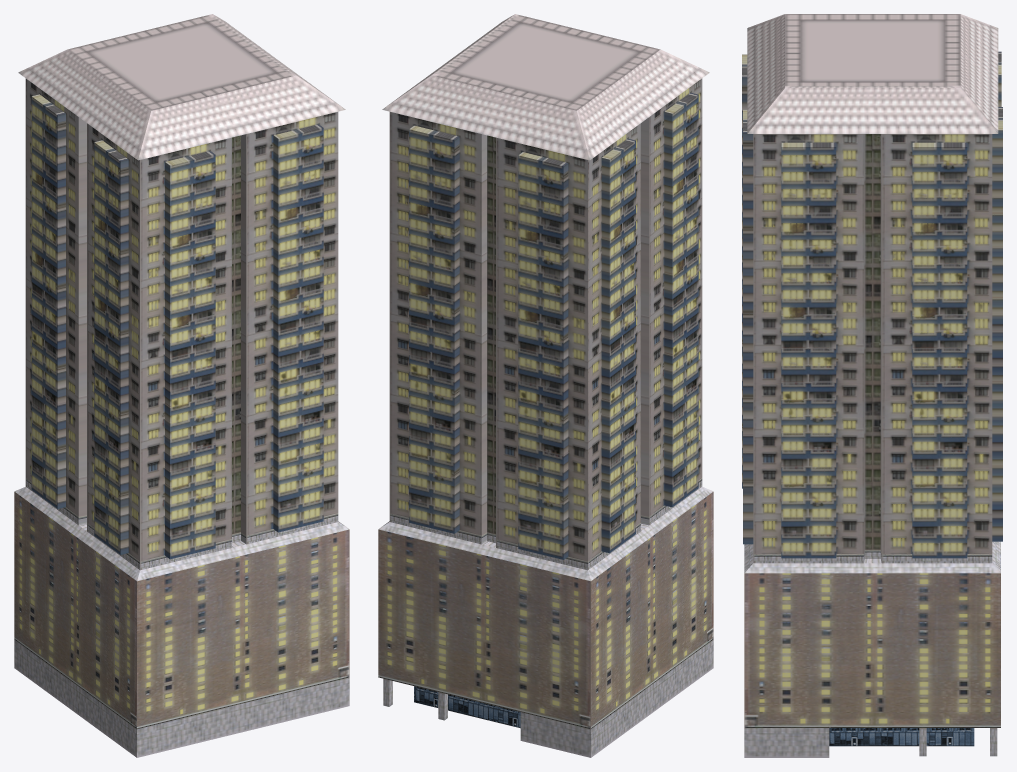
Rendered from skyscraper_night.obj.
The picture shows the model from 3 angles, left to right: view 1: azimuth 30°, elevation 25°; view 2: azimuth 150°, elevation 25°; view 3: azimuth 270°, elevation 25°; orthographic projection. The views are drawn at different scales.
Parts seen in each view (by area): view 1: skyscraper; view 2: skyscraper; view 3: skyscraper.
Part boxes in pixels (x1,y1,x2,y2): skyscraper: [14, 14, 349, 757]; skyscraper: [378, 14, 713, 757]; skyscraper: [742, 14, 1002, 757].
Size of the model in its own units: 0.4106 by 1.14 by 0.4132.
Materials: 1 (1 with a texture image).
